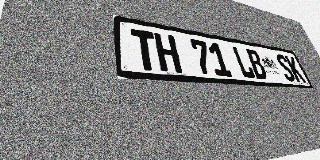1: (206, 42, 232, 77)
7: (189, 39, 216, 76)
B: (245, 48, 269, 80)
H: (154, 33, 182, 73)
K: (284, 55, 306, 82)
L: (231, 46, 256, 79)
S: (274, 54, 297, 82)
T: (130, 28, 160, 71)
